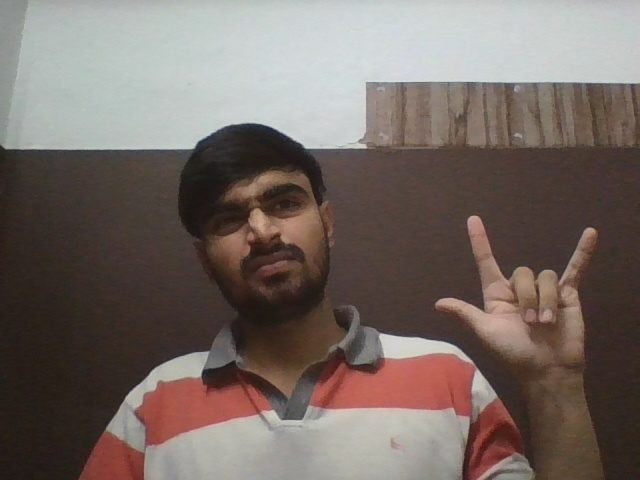I Love You: (433, 214, 599, 373)
